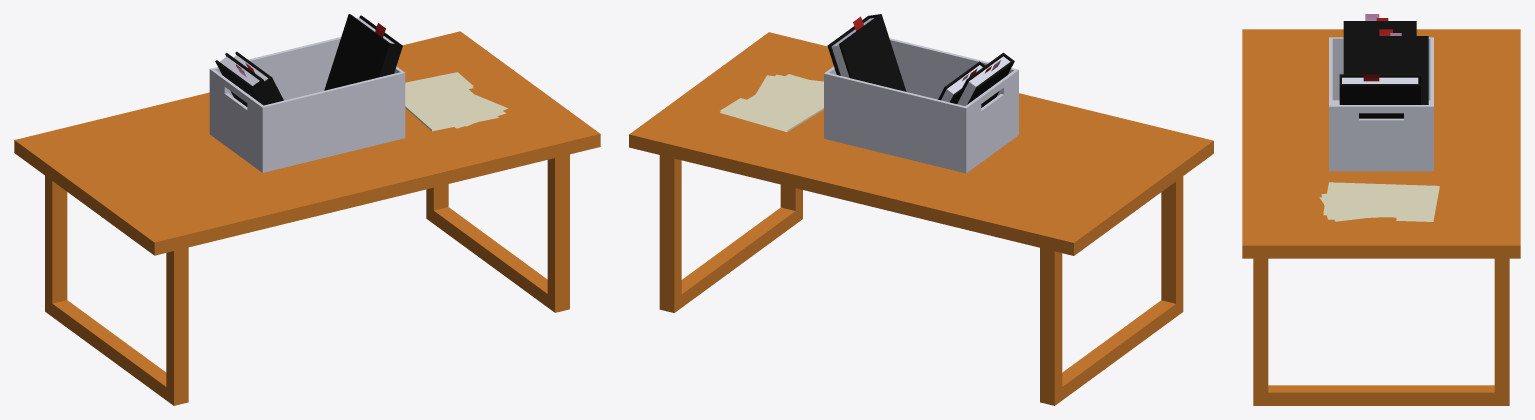
The model's file is Set Meja Kerja 2.fbx.
3 renders of one model, left to right at view 1: azimuth 30°, elevation 25°; view 2: azimuth 150°, elevation 25°; view 3: azimuth 270°, elevation 25°, orthographic.
Parts seen in each view (by area): view 1: Plane.008, Plane.011, Plane.012, Cube.004, Cube.003, Cube.005; view 2: Plane.008, Plane.011, Plane.012, Cube.004, Cube.003, Cube.005; view 3: Plane.008, Plane.011, Plane.012, Cube.005, Cube.004, Cube.003.
Boxes of the visible parts, x1,y1,x2,y2 form: Plane.008: [14, 31, 600, 405]; Plane.011: [209, 37, 405, 172]; Plane.012: [405, 72, 507, 131]; Cube.004: [324, 14, 402, 90]; Cube.003: [215, 53, 275, 106]; Cube.005: [233, 51, 283, 102]; Plane.008: [629, 32, 1213, 405]; Plane.011: [824, 38, 1018, 173]; Plane.012: [720, 74, 823, 131]; Cube.004: [827, 14, 906, 91]; Cube.003: [955, 52, 1014, 107]; Cube.005: [938, 61, 985, 103]; Plane.008: [1242, 29, 1520, 405]; Plane.011: [1329, 37, 1433, 171]; Plane.012: [1319, 182, 1439, 221]; Cube.005: [1358, 29, 1428, 104]; Cube.004: [1339, 74, 1420, 118]; Cube.003: [1343, 14, 1416, 74].
Bounding box in the file's own units: 1641 × 954 × 893.
